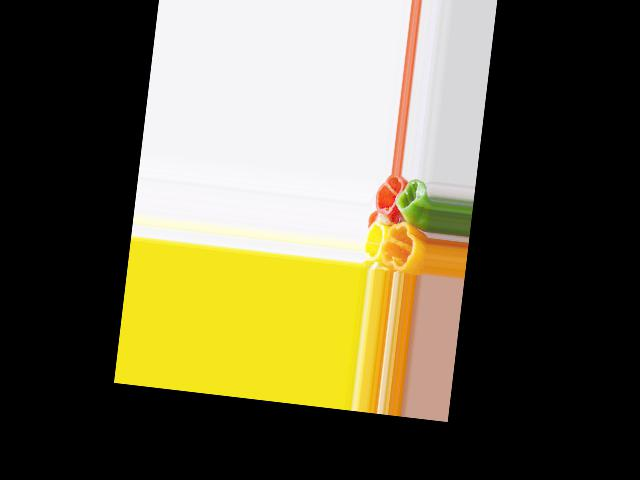bell_pepper: (372, 174, 403, 216)
